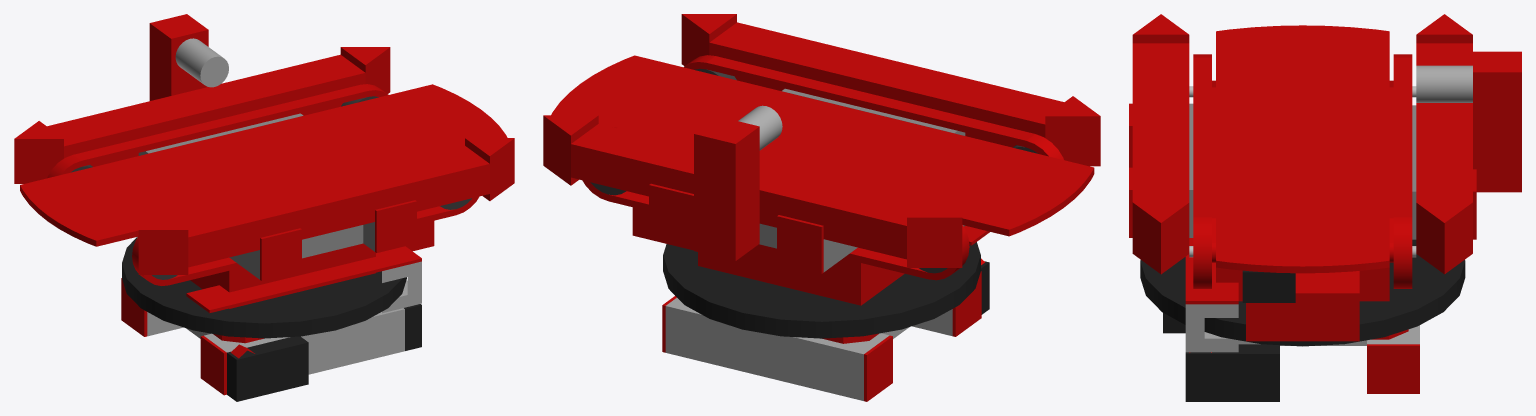
File: assembly_Turntable.dae
3 views of the same model, side by side, from view 1: azimuth 30°, elevation 25°; view 2: azimuth 150°, elevation 25°; view 3: azimuth 270°, elevation 25° (orthographic). The views are drawn at different scales.
Visible parts, largest first — view 1: Komponente_5 (×2), Obergestell_1 (×3), Drehkranz, Dreieck (×4), Band_1 (×3), Komponente_3 (×4), Komponente_7 (×3), Endlagenschalter (×2), Komponente_10, Sensor_Ständer, Komponente_6 (×2), Sensor (+1 smaller); view 2: Komponente_5 (×2), Obergestell_1 (×3), Drehkranz, Komponente_7 (×3), Dreieck (×4), Sensor_Ständer, Band_1 (×3), Komponente_3 (×4), Komponente_6 (×2), Sensor; view 3: Komponente_5 (×2), Obergestell_1 (×3), Dreieck (×4), Band_1 (×2), Drehkranz, Sensor_Ständer, Endlagenschalter (×2), Komponente_3, Sensor, Hälfte, Motor, Komponente_10 (+2 smaller).
Part boxes in pixels (bbox=[...]): Komponente_5 (×2): bbox=[20, 84, 507, 308]; Obergestell_1 (×3): bbox=[47, 54, 489, 267]; Drehkranz: bbox=[122, 238, 406, 338]; Dreieck (×4): bbox=[14, 47, 514, 274]; Band_1 (×3): bbox=[47, 84, 479, 285]; Komponente_3 (×4): bbox=[121, 200, 416, 395]; Komponente_7 (×3): bbox=[147, 308, 404, 374]; Endlagenschalter (×2): bbox=[227, 304, 421, 401]; Komponente_10: bbox=[186, 246, 421, 313]; Sensor_Ständer: bbox=[149, 14, 208, 100]; Komponente_6 (×2): bbox=[138, 113, 374, 279]; Sensor: bbox=[175, 38, 228, 87]; Komponente_5 (×2): bbox=[551, 55, 1094, 305]; Obergestell_1 (×3): bbox=[571, 22, 1063, 259]; Drehkranz: bbox=[663, 242, 980, 338]; Komponente_7 (×3): bbox=[665, 298, 952, 400]; Dreieck (×4): bbox=[543, 14, 1100, 267]; Sensor_Ständer: bbox=[694, 116, 759, 260]; Band_1 (×3): bbox=[582, 55, 1063, 280]; Komponente_3 (×4): bbox=[649, 183, 981, 401]; Komponente_6 (×2): bbox=[759, 88, 965, 272]; Sensor: bbox=[738, 105, 782, 150]; Komponente_5 (×2): bbox=[1212, 25, 1393, 301]; Obergestell_1 (×3): bbox=[1132, 43, 1472, 341]; Dreieck (×4): bbox=[1132, 14, 1472, 274]; Band_1 (×2): bbox=[1193, 54, 1412, 288]; Drehkranz: bbox=[1140, 239, 1465, 346]; Sensor_Ständer: bbox=[1473, 51, 1521, 192]; Endlagenschalter (×2): bbox=[1163, 313, 1279, 401]; Komponente_3: bbox=[1367, 344, 1419, 393]; Sensor: bbox=[1416, 65, 1472, 102]; Hälfte: bbox=[1185, 304, 1238, 352]; Motor: bbox=[1242, 270, 1295, 302]; Komponente_10: bbox=[1185, 238, 1238, 304].
Size of the model in its own units: 5.94 by 4.09 by 3.23.
